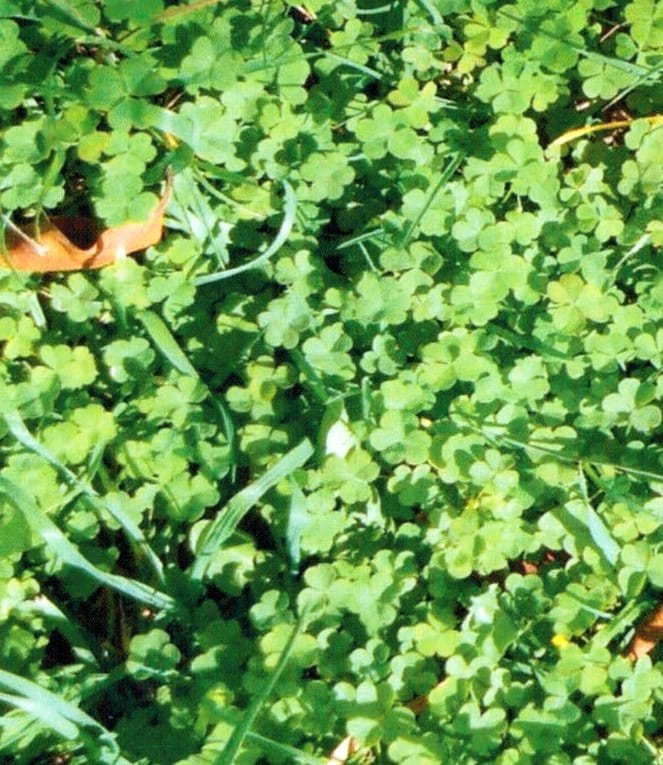oxalis: (103, 94, 620, 509)
